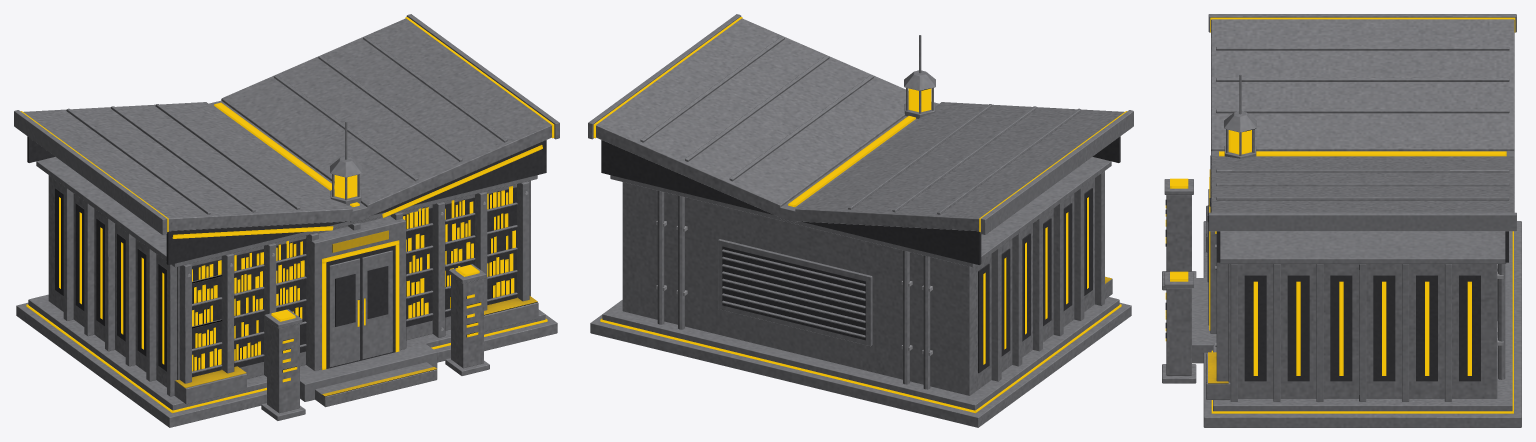
The model's file is nodexeus-library.glb.
3 views of the same model, side by side, from view 1: azimuth 30°, elevation 25°; view 2: azimuth 150°, elevation 25°; view 3: azimuth 270°, elevation 25° (orthographic). The views are drawn at different scales.
Parts seen in each view (by area): view 1: library; view 2: library; view 3: library.
Part boxes in pixels (<box>): library: <box>14,14,559,427</box>; library: <box>588,14,1133,427</box>; library: <box>1162,14,1521,427</box>.
Size of the model in its own units: 7.78 by 4.6 by 5.88.
Materials: 1 (1 with a texture image).
